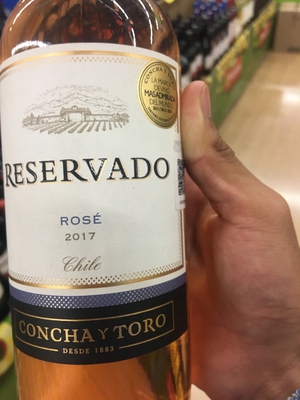reservado rose: (1, 8, 191, 400)
